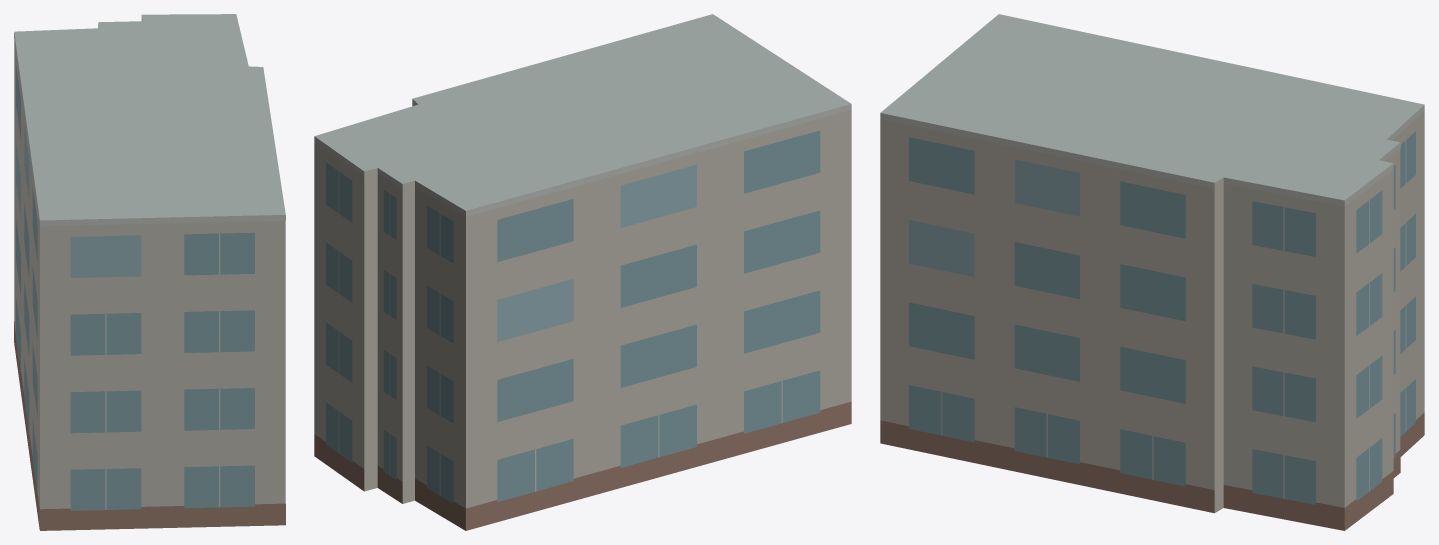
Rendered from survey-upis-32605893.glb.
The picture shows the model from 3 angles, left to right: view 1: azimuth 30°, elevation 25°; view 2: azimuth 150°, elevation 25°; view 3: azimuth 270°, elevation 25°; orthographic projection. The views are drawn at different scales.
Parts seen in each view (by area): view 1: survey-upis-32605893.tmp; view 2: survey-upis-32605893.tmp; view 3: survey-upis-32605893.tmp.
Boxes of the visible parts, <box> form: survey-upis-32605893.tmp: <box>14,14,285,530</box>; survey-upis-32605893.tmp: <box>314,14,851,530</box>; survey-upis-32605893.tmp: <box>880,14,1424,530</box>.
Bounding box in the file's own units: 15.74 × 13 × 19.42.
